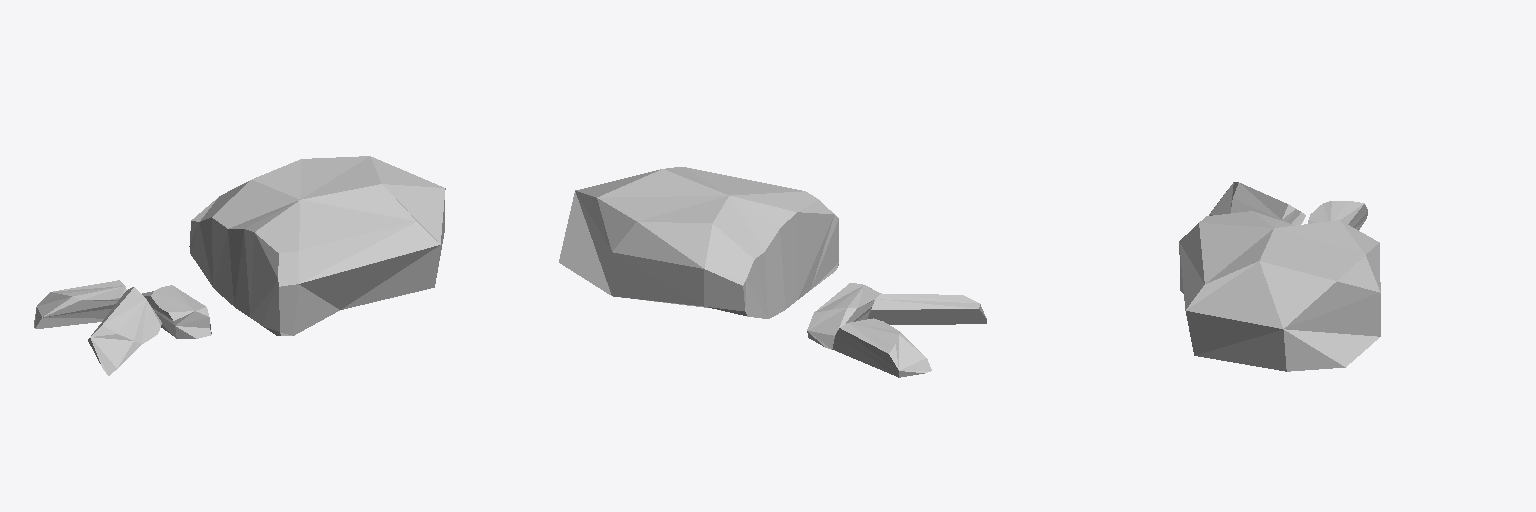
The model's file is chicken_chop_1.obj.
The picture shows the model from 3 angles: view 1: azimuth 30°, elevation 25°; view 2: azimuth 150°, elevation 25°; view 3: azimuth 270°, elevation 25°; orthographic projection.
Visible parts, largest first — view 1: chops Chicken Chicken1, chops Chicken pCube63, chops Chicken pCube64, pCube65 chops Chicken; view 2: chops Chicken Chicken1, chops Chicken pCube64, chops Chicken pCube63, pCube65 chops Chicken; view 3: chops Chicken Chicken1, chops Chicken pCube63, chops Chicken pCube64.
Part boxes in pixels (left/top/right/bottom): chops Chicken Chicken1: left=189, top=156, right=445, bottom=335; chops Chicken pCube63: left=88, top=287, right=161, bottom=375; chops Chicken pCube64: left=34, top=280, right=126, bottom=328; pCube65 chops Chicken: left=142, top=285, right=211, bottom=338; chops Chicken Chicken1: left=559, top=167, right=838, bottom=318; chops Chicken pCube64: left=832, top=318, right=931, bottom=377; chops Chicken pCube63: left=868, top=293, right=986, bottom=324; pCube65 chops Chicken: left=807, top=283, right=880, bottom=349; chops Chicken Chicken1: left=1179, top=211, right=1380, bottom=371; chops Chicken pCube63: left=1209, top=182, right=1305, bottom=224; chops Chicken pCube64: left=1308, top=201, right=1367, bottom=230.
Size of the model in its own units: 0.8914 by 0.2268 by 0.4038.